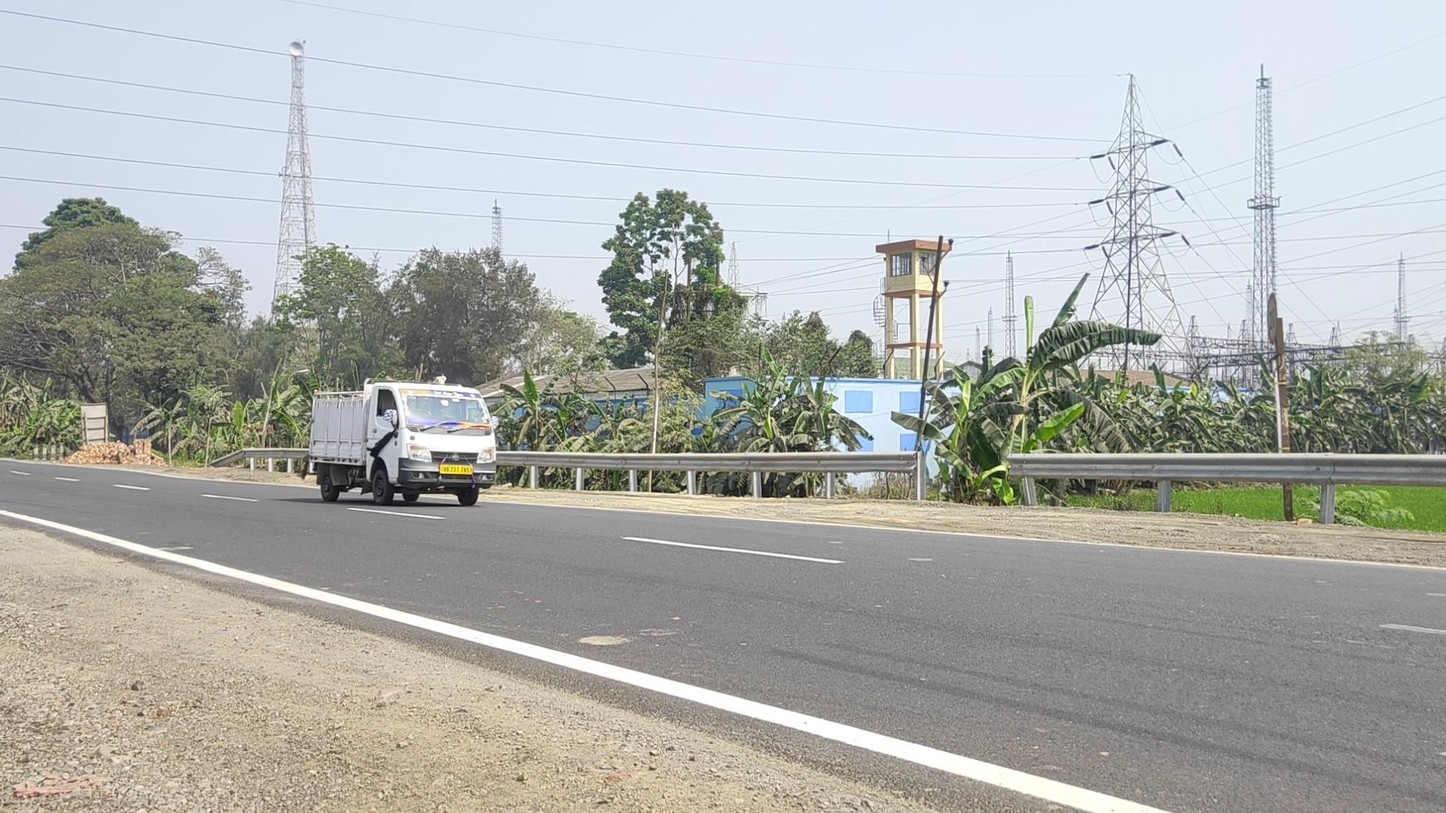van: (308, 379, 499, 507)
